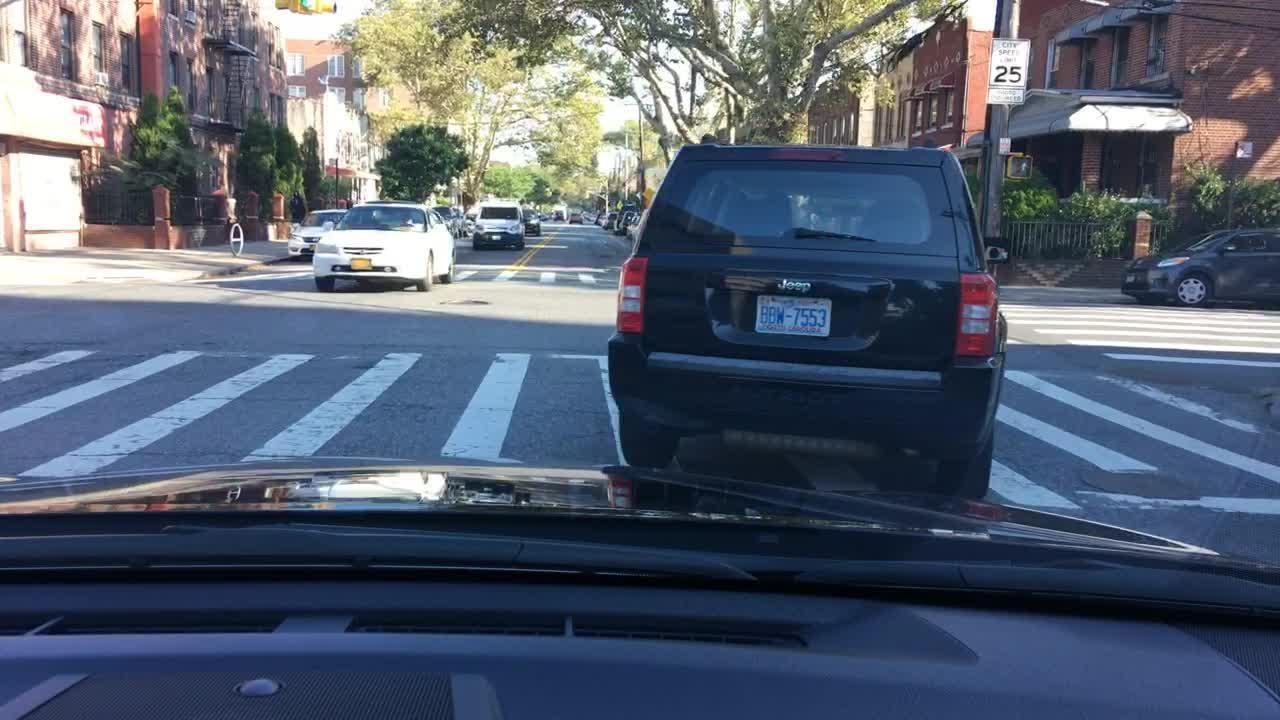jeep: (776, 276, 811, 296)
